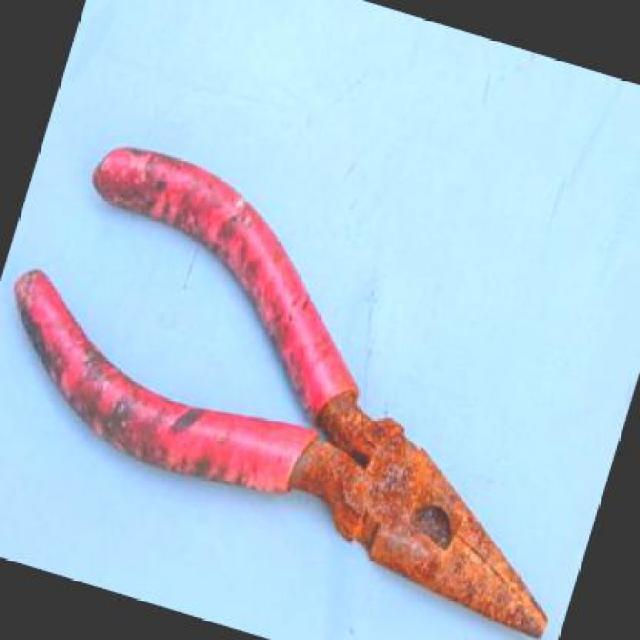pliers: (0, 107, 638, 638)
